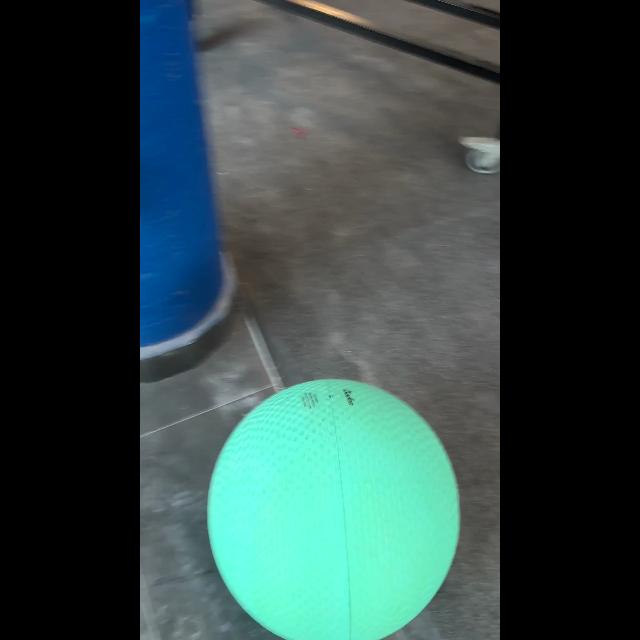ALGAE: (205, 378, 460, 638)
